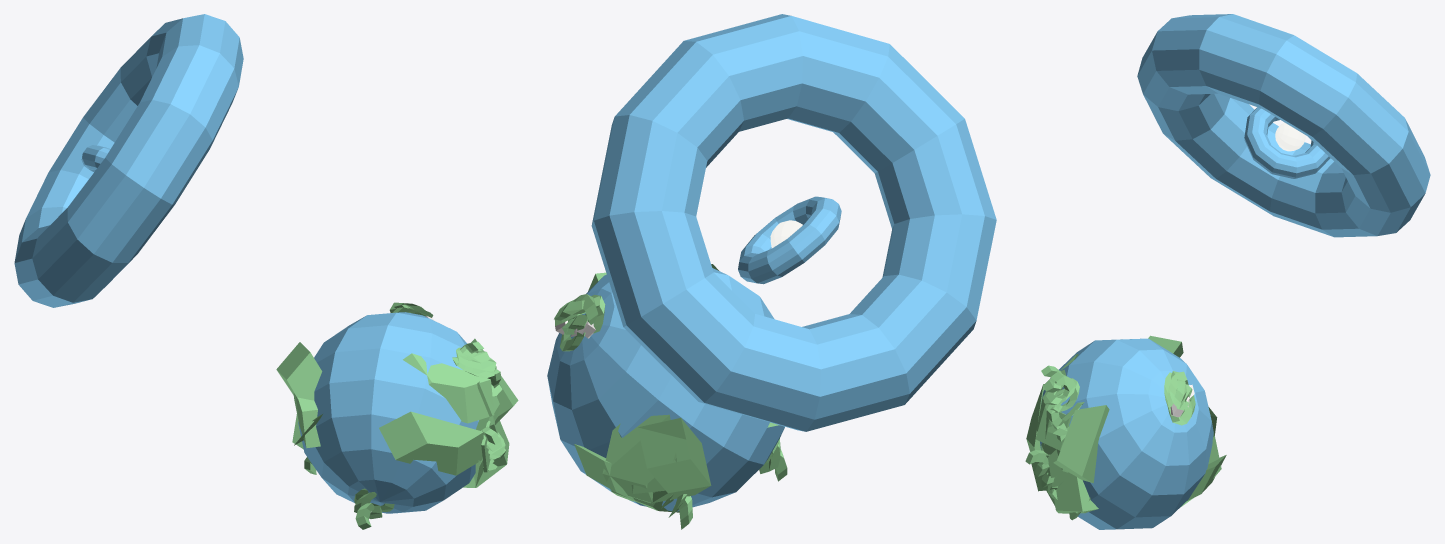
The model's file is Planets.glb.
The picture shows the model from 3 angles, left to right: view 1: azimuth 30°, elevation 25°; view 2: azimuth 150°, elevation 25°; view 3: azimuth 270°, elevation 25°; orthographic projection. The views are drawn at different scales.
Parts seen in each view (by area): view 1: group1396455888.001, group668468700.001, group1116711474.001, group940707738.001, group1397593808.003, group2104907756.001, group1936748976.002, group29447511.003, group1224090816.001, group1144712646.001; view 2: group1396455888.001, group668468700.001, group1137263539.001, group55601324.001, group1936748976.003, group29447511.002, group1936748976.002, group939673291.001; view 3: group1396455888.001, group668468700.001, group55601324.001, group1397593808.002, group2104907756.001, group1224090816.001, group1936748976.003, group1144712646.001, group1768177887.001, group1951920102.001, group1116711474.001, group29447511.002.
Part boxes in pixels (x1,y1,x2,y2): group1396455888.001: [14, 14, 243, 307]; group668468700.001: [298, 312, 478, 513]; group1116711474.001: [379, 411, 483, 475]; group940707738.001: [403, 353, 494, 423]; group1397593808.003: [276, 342, 322, 445]; group2104907756.001: [452, 342, 502, 396]; group1936748976.002: [354, 488, 394, 529]; group29447511.003: [293, 393, 320, 448]; group1224090816.001: [463, 416, 509, 487]; group1144712646.001: [481, 426, 506, 470]; group1396455888.001: [591, 14, 996, 431]; group668468700.001: [547, 268, 784, 511]; group1137263539.001: [602, 414, 711, 503]; group55601324.001: [738, 196, 841, 284]; group1936748976.003: [554, 294, 605, 351]; group29447511.002: [574, 444, 656, 510]; group1936748976.002: [759, 438, 787, 481]; group939673291.001: [661, 494, 692, 529]; group1396455888.001: [1137, 14, 1430, 237]; group668468700.001: [1040, 338, 1213, 529]; group55601324.001: [1244, 107, 1330, 178]; group1397593808.002: [1053, 405, 1109, 483]; group2104907756.001: [1041, 365, 1084, 442]; group1224090816.001: [1048, 449, 1098, 513]; group1936748976.003: [1164, 371, 1195, 425]; group1144712646.001: [1025, 450, 1062, 499]; group1768177887.001: [1275, 122, 1305, 151]; group1951920102.001: [1035, 405, 1071, 450]; group1116711474.001: [1026, 384, 1044, 451]; group29447511.002: [1186, 455, 1226, 501].
Size of the model in its own units: 0.4086 by 0.4475 by 0.3753.
